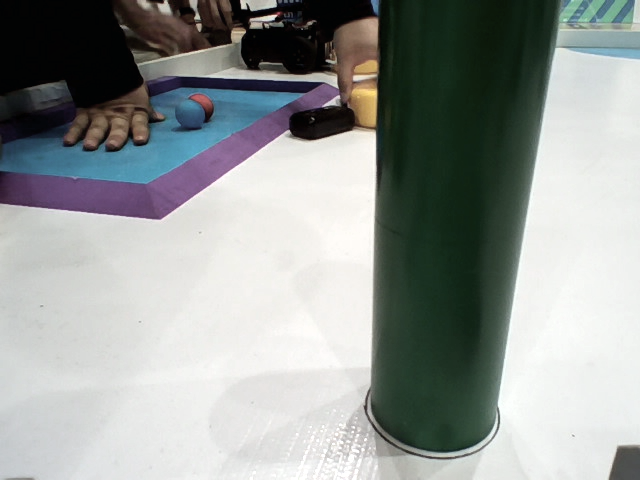black: (283, 104, 359, 144)
blue: (169, 98, 207, 133)
kuang: (1, 69, 344, 232)
red: (182, 89, 219, 120)
yellow: (349, 71, 380, 136)
zhuzi: (375, 1, 567, 468)
